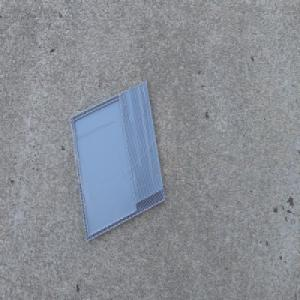PlasticPart: (68, 79, 166, 242)
